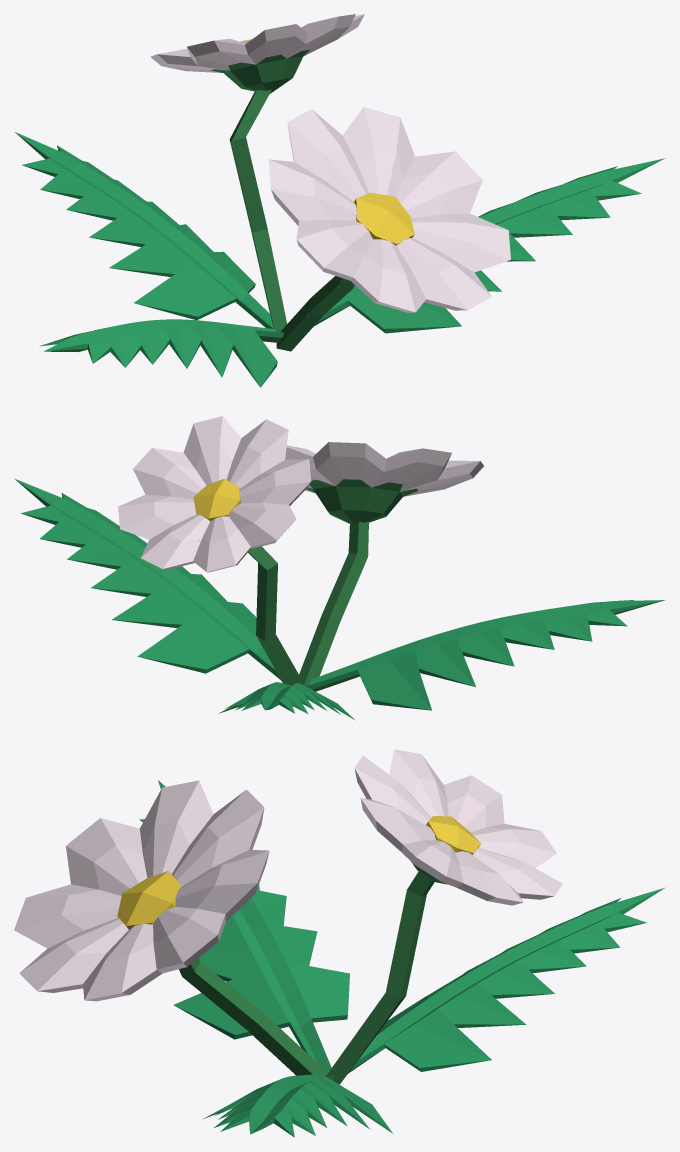
The model's file is 3D_Model_Daisy_LP_v2.fbx.
3 renders of one model, top to bottom at view 1: azimuth 30°, elevation 25°; view 2: azimuth 150°, elevation 25°; view 3: azimuth 270°, elevation 25°, orthographic. The views are drawn at different scales.
Visible parts, largest first — view 1: daisy_02; view 2: daisy_02; view 3: daisy_02.
Boxes of the visible parts, x1,y1,x2,y2 form: daisy_02: [15, 14, 665, 387]; daisy_02: [14, 416, 665, 720]; daisy_02: [14, 749, 665, 1137].
Bounding box in the file's own units: 276 × 123 × 214.
